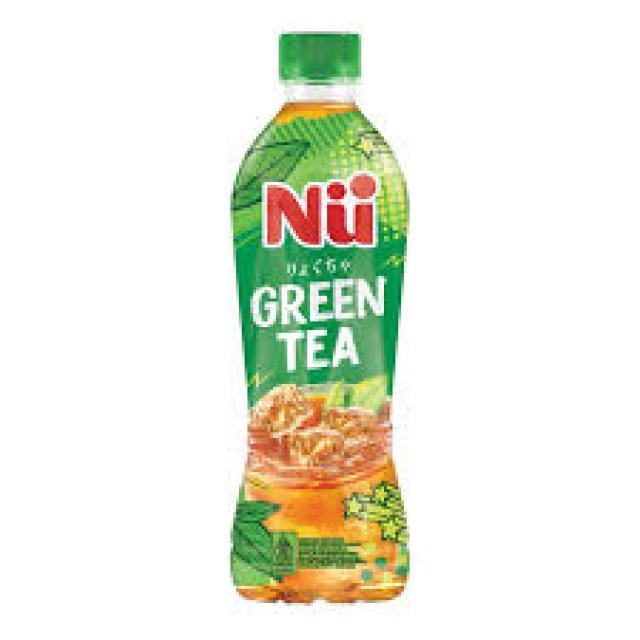good: (227, 20, 463, 594)
